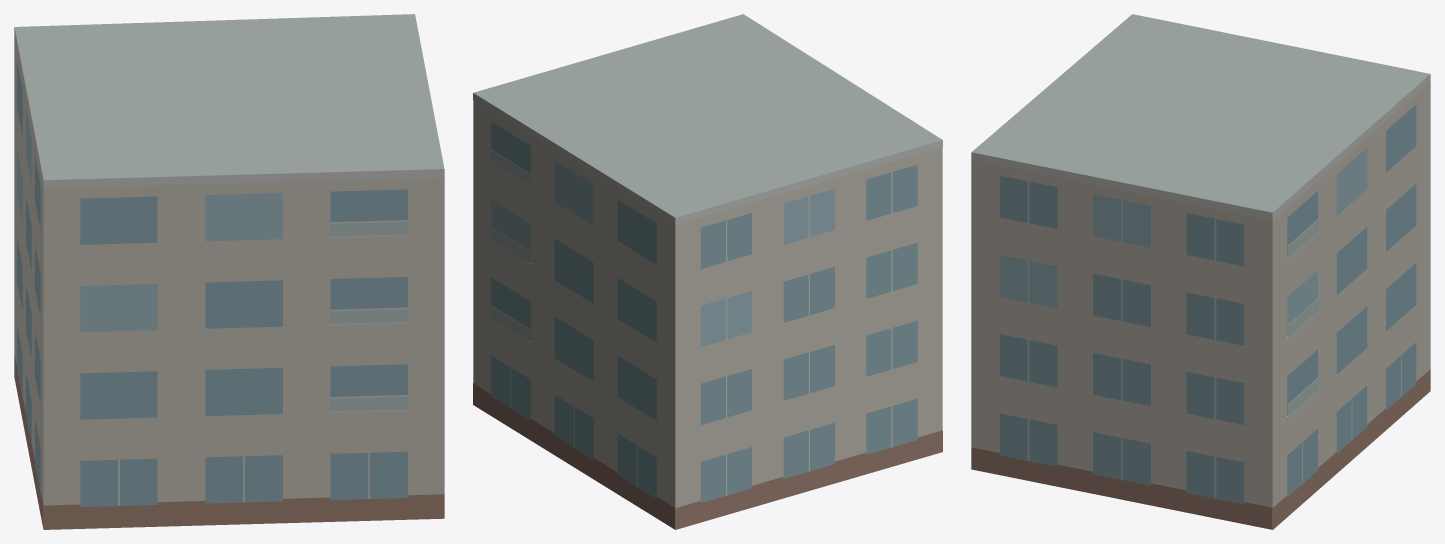
The model's file is survey-upis-32531710.glb.
3 renders of one model, left to right at view 1: azimuth 30°, elevation 25°; view 2: azimuth 150°, elevation 25°; view 3: azimuth 270°, elevation 25°, orthographic. The views are drawn at different scales.
Parts seen in each view (by area): view 1: survey-upis-32531710.tmp; view 2: survey-upis-32531710.tmp; view 3: survey-upis-32531710.tmp.
Part boxes in pixels (x1,y1,x2,y2): survey-upis-32531710.tmp: (14, 14, 444, 529); survey-upis-32531710.tmp: (473, 14, 942, 529); survey-upis-32531710.tmp: (971, 14, 1430, 529).
Size of the model in its own units: 14.12 by 10.5 by 13.79.
